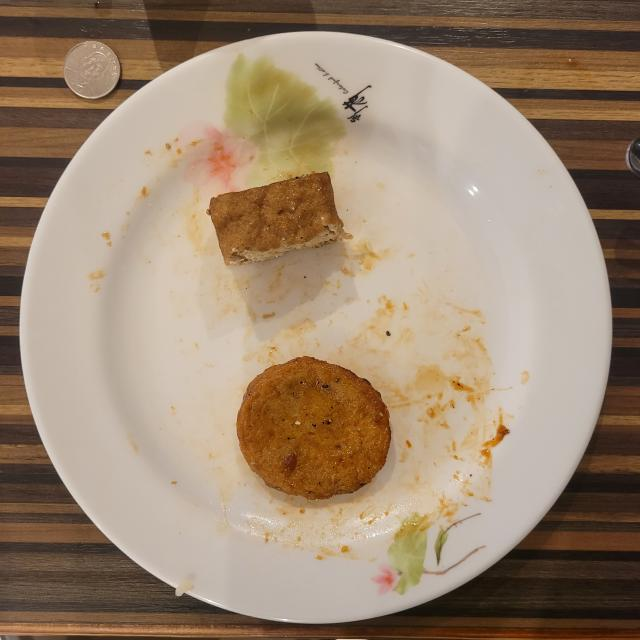coin: (64, 41, 120, 99)
egg tofu: (208, 171, 352, 265)
fish cake: (236, 356, 391, 500)
